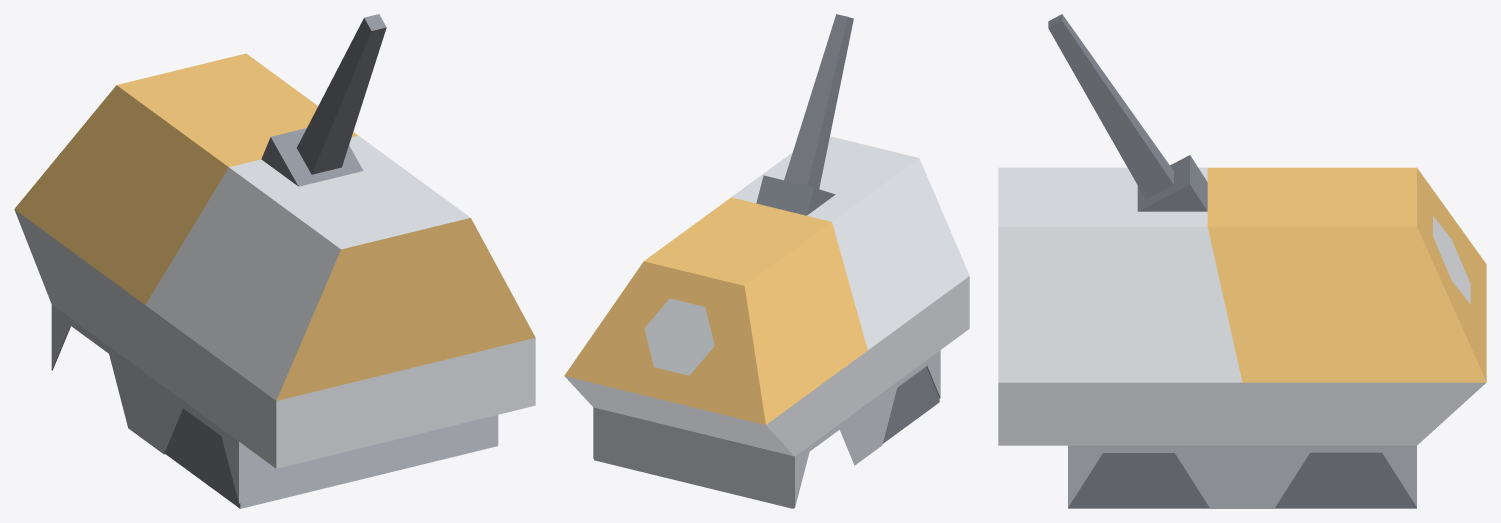
The model's file is rover_body.glb.
3 renders of one model, left to right at view 1: azimuth 30°, elevation 25°; view 2: azimuth 150°, elevation 25°; view 3: azimuth 270°, elevation 25°, orthographic. The views are drawn at different scales.
Parts seen in each view (by area): view 1: unit_rover; view 2: unit_rover; view 3: unit_rover.
Boxes of the visible parts, x1,y1,x2,y2 form: unit_rover: [14, 14, 535, 508]; unit_rover: [564, 14, 969, 508]; unit_rover: [998, 14, 1486, 508].
Size of the model in its own units: 1.66 by 2.84 by 2.91.
